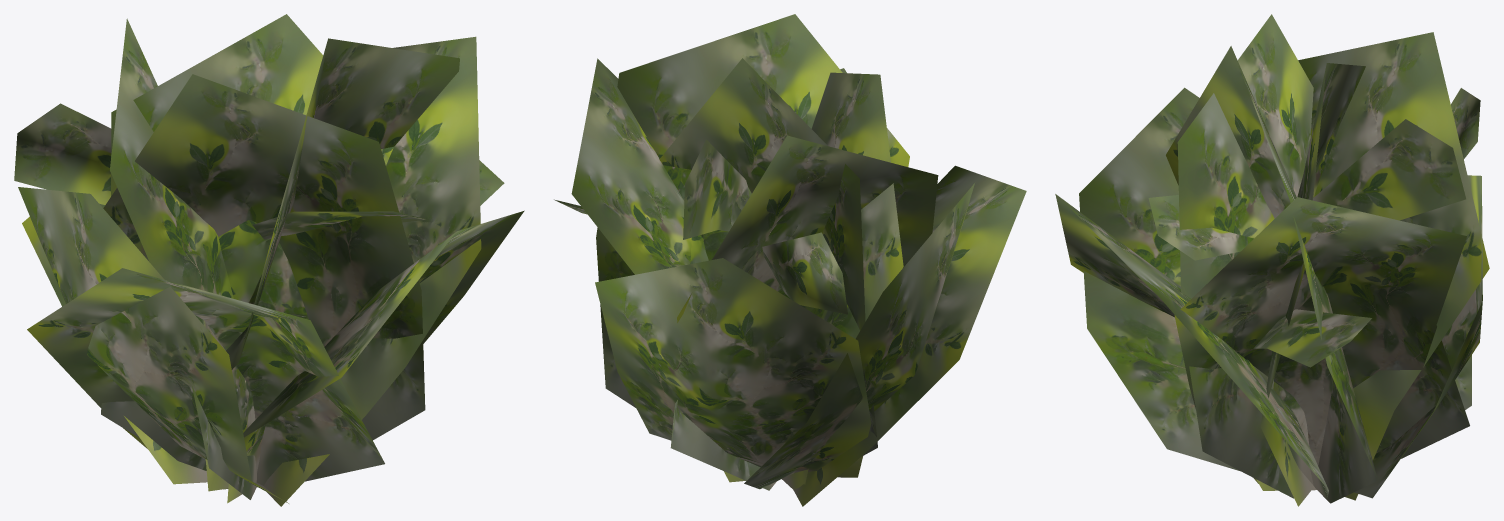
File: QuixelBush_02.fbx
The picture shows the model from 3 angles, left to right: view 1: azimuth 30°, elevation 25°; view 2: azimuth 150°, elevation 25°; view 3: azimuth 270°, elevation 25°; orthographic projection. The views are drawn at different scales.
Parts seen in each view (by area): view 1: Polygon; view 2: Polygon; view 3: Polygon.
Part boxes in pixels (x1,y1,x2,y2): Polygon: [14, 14, 524, 506]; Polygon: [554, 14, 1026, 506]; Polygon: [1055, 14, 1489, 506].
Bounding box in the file's own units: 243 × 240 × 207.
